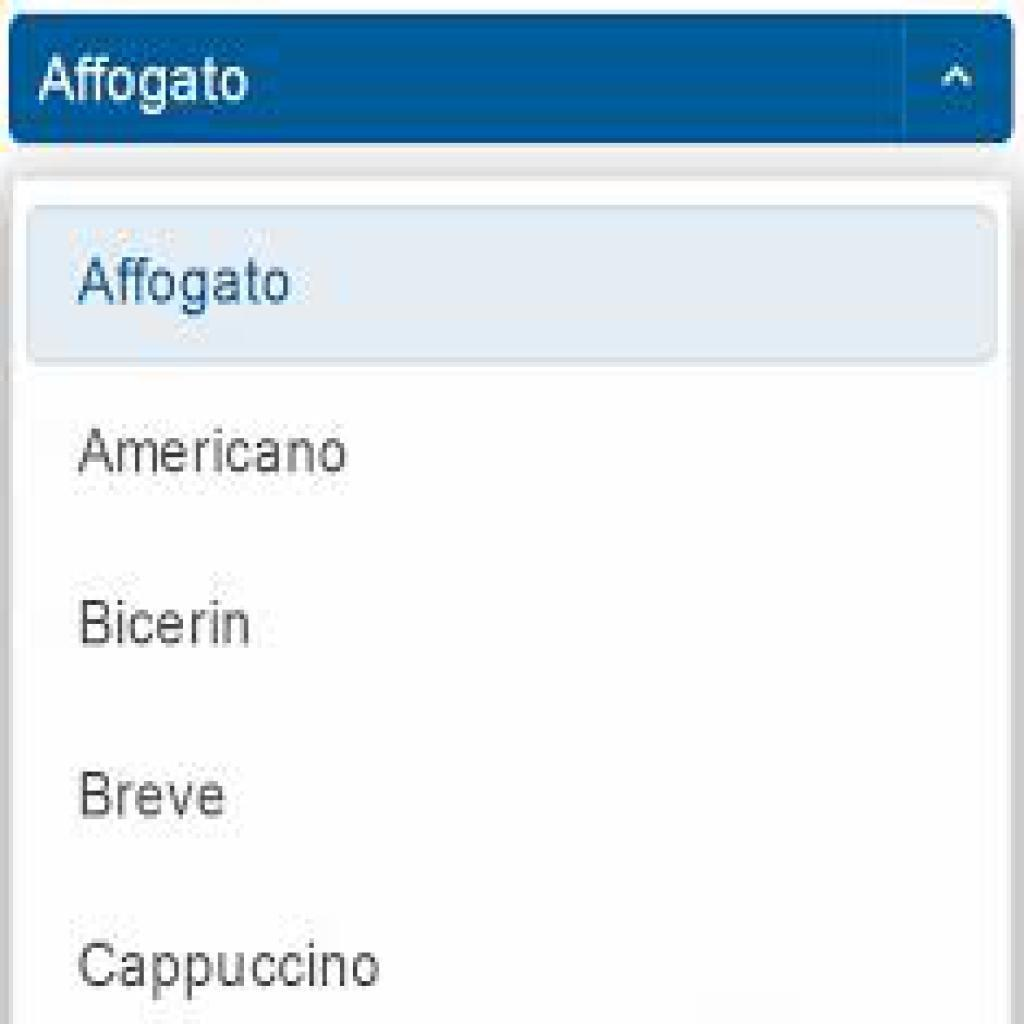button: (27, 205, 997, 364)
dropdown: (10, 16, 1014, 144)
